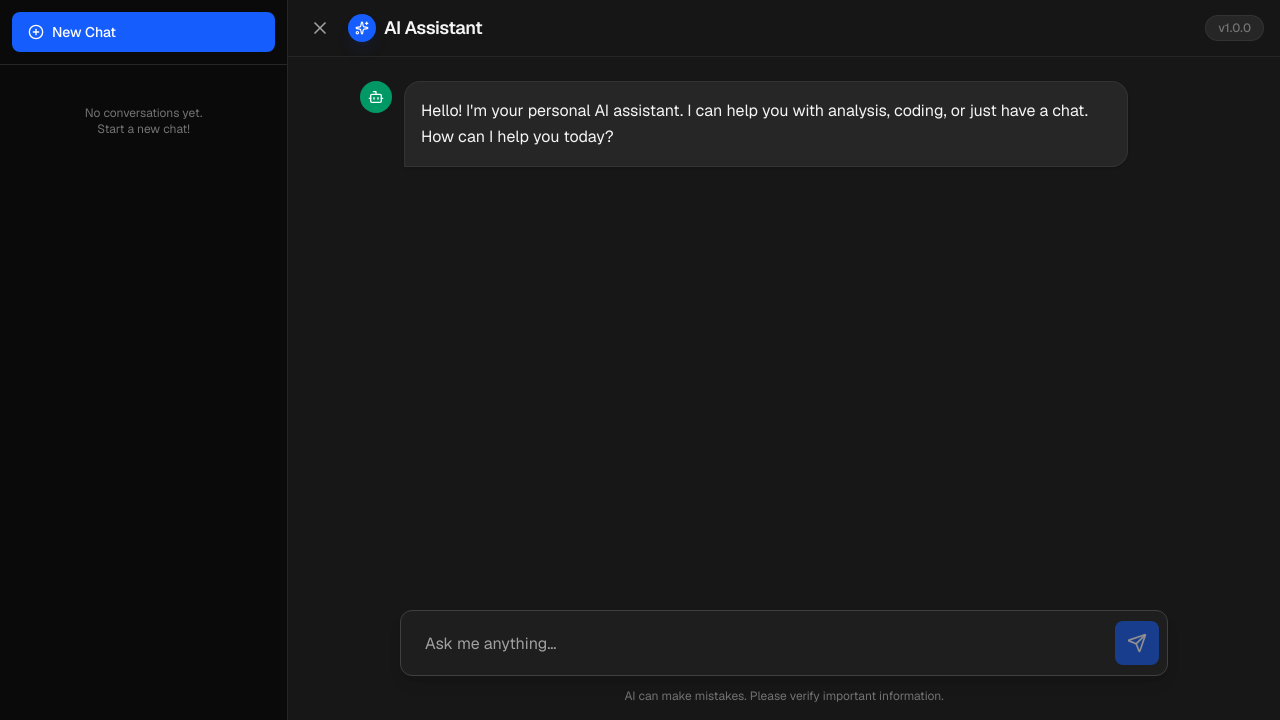
Home (chat UI) › sends a message and displays the AI reply
Type "What is 2+2?" into the field with placeholder "Ask me anything…" at [758, 643], box [409, 619, 1107, 667]
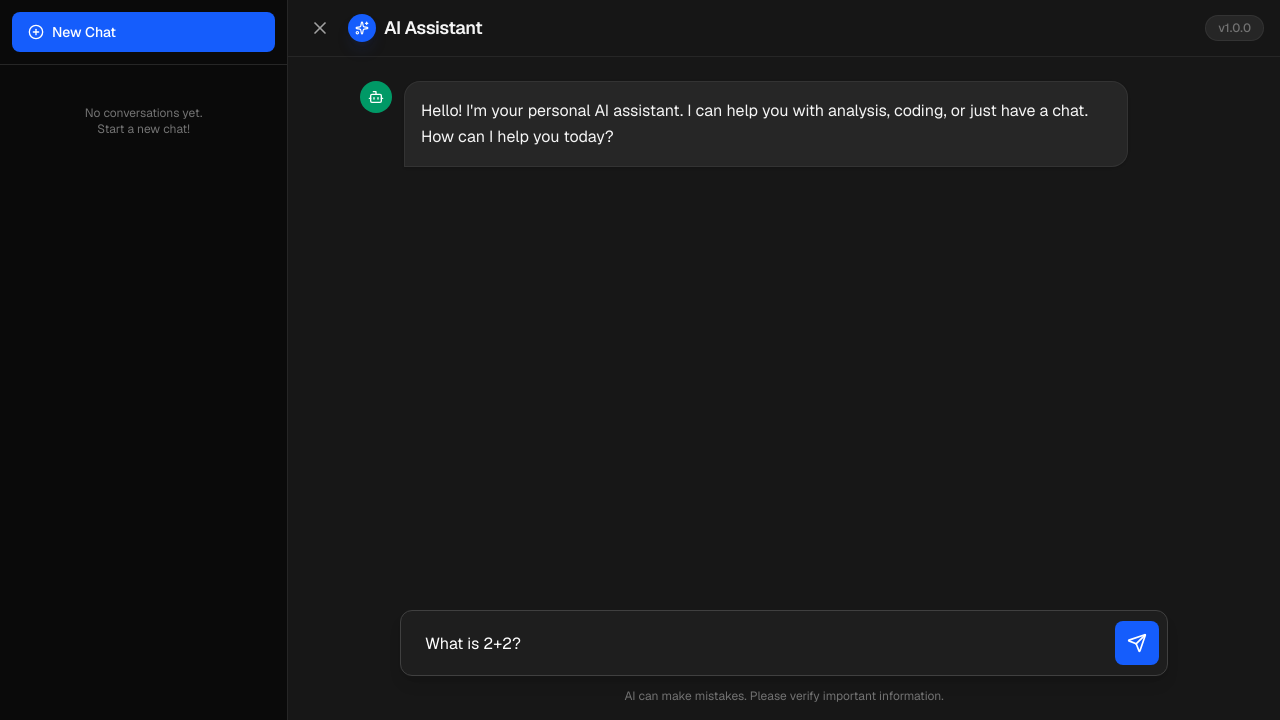
Submit the form, box [400, 610, 1168, 676]
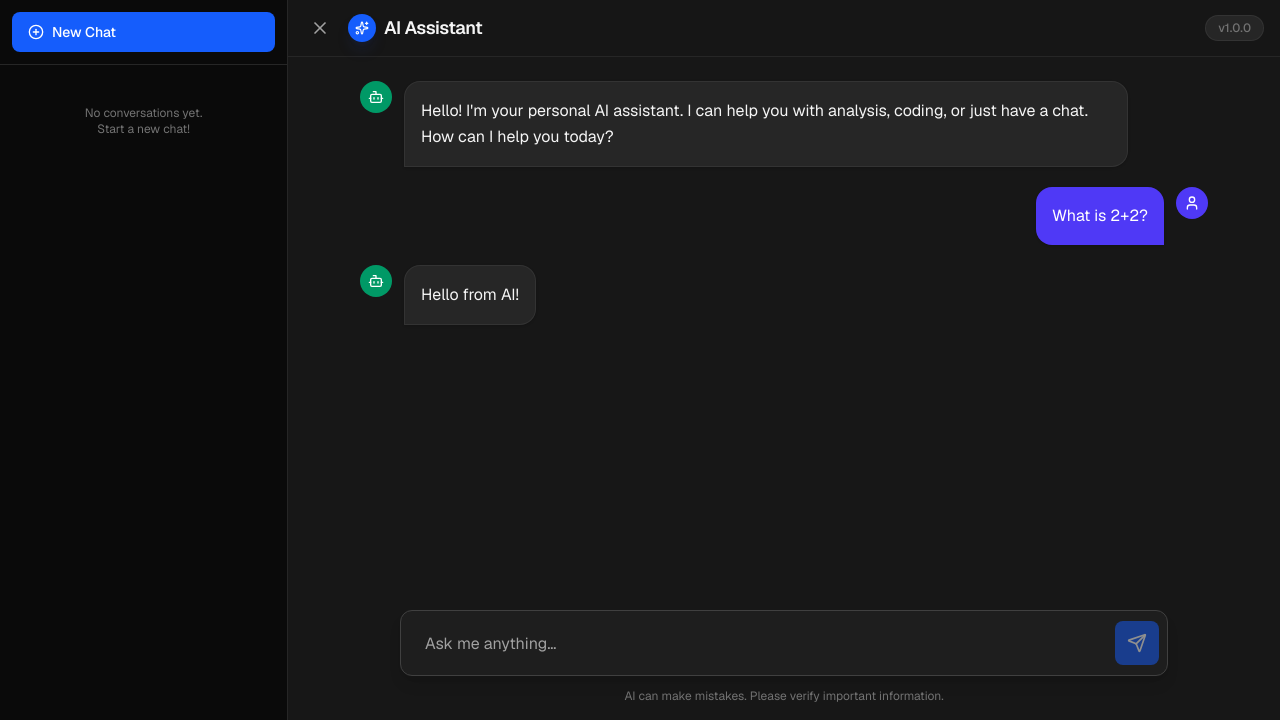
Expected: the text "What is 2+2?" is shown, [1052, 203, 1148, 229]
Expected: the text "Hello from AI!" is shown, [421, 282, 519, 308]
